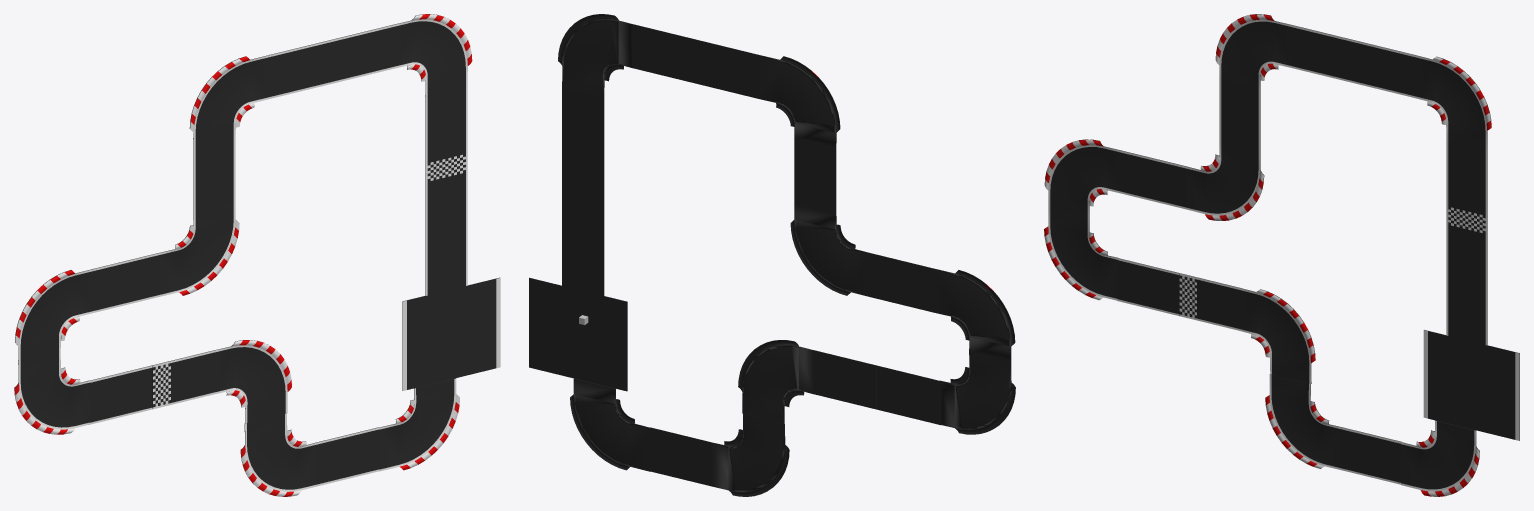
Rendered from Track2.obj.
3 renders of one model, left to right at view 1: azimuth 30°, elevation 25°; view 2: azimuth 150°, elevation 25°; view 3: azimuth 330°, elevation 25°, orthographic. The views are drawn at different scales.
Parts seen in each view (by area): view 1: Cube.031, Cube.002, Cube.013, Cube.022, Cube.007, Cube.024, Cube.011, Cube.026, Cube.008, Cube.034, Cube.019, Cube.020 (+7 smaller); view 2: Cube.031, Cube.013, Cube.007, Cube.011, Cube.024, Cube.026, Cube.008, Cube.022, Cube.002, Cube.005, Cube.019, Cube.021 (+7 smaller); view 3: Cube.031, Cube.024, Cube.026, Cube.013, Cube.011, Cube.007, Cube.022, Cube.002, Cube.008, Cube.034, Cube.006, Cube.023 (+7 smaller).
Part boxes in pixels (x1=…): Cube.031: x1=402, y1=277, x2=500, y2=390; Cube.002: x1=158, y1=204, x2=239, y2=296; Cube.013: x1=189, y1=55, x2=270, y2=147; Cube.022: x1=379, y1=378, x2=459, y2=471; Cube.007: x1=15, y1=268, x2=95, y2=361; Cube.024: x1=240, y1=413, x2=316, y2=496; Cube.011: x1=396, y1=14, x2=472, y2=97; Cube.026: x1=216, y1=340, x2=291, y2=423; Cube.008: x1=14, y1=351, x2=89, y2=434; Cube.034: x1=152, y1=350, x2=216, y2=409; Cube.019: x1=425, y1=87, x2=467, y2=163; Cube.020: x1=425, y1=153, x2=467, y2=229; Cube.031: x1=529, y1=277, x2=627, y2=391; Cube.013: x1=759, y1=55, x2=840, y2=148; Cube.007: x1=934, y1=268, x2=1015, y2=361; Cube.011: x1=558, y1=14, x2=633, y2=97; Cube.024: x1=713, y1=413, x2=789, y2=496; Cube.026: x1=738, y1=340, x2=813, y2=423; Cube.008: x1=940, y1=351, x2=1015, y2=434; Cube.022: x1=570, y1=378, x2=650, y2=471; Cube.002: x1=790, y1=204, x2=870, y2=297; Cube.005: x1=794, y1=138, x2=836, y2=214; Cube.019: x1=562, y1=87, x2=604, y2=163; Cube.021: x1=562, y1=220, x2=604, y2=295; Cube.031: x1=1423, y1=330, x2=1519, y2=440; Cube.024: x1=1265, y1=374, x2=1339, y2=469; Cube.026: x1=1241, y1=288, x2=1315, y2=383; Cube.013: x1=1215, y1=14, x2=1294, y2=90; Cube.011: x1=1417, y1=56, x2=1491, y2=151; Cube.007: x1=1044, y1=139, x2=1123, y2=215; Cube.022: x1=1401, y1=420, x2=1479, y2=496; Cube.002: x1=1185, y1=145, x2=1264, y2=220; Cube.008: x1=1044, y1=205, x2=1117, y2=300; Cube.034: x1=1179, y1=273, x2=1241, y2=331; Cube.006: x1=1123, y1=151, x2=1185, y2=208; Cube.023: x1=1339, y1=426, x2=1401, y2=484.
Bounding box in the file's own units: 164 × 146 × 3.44.
